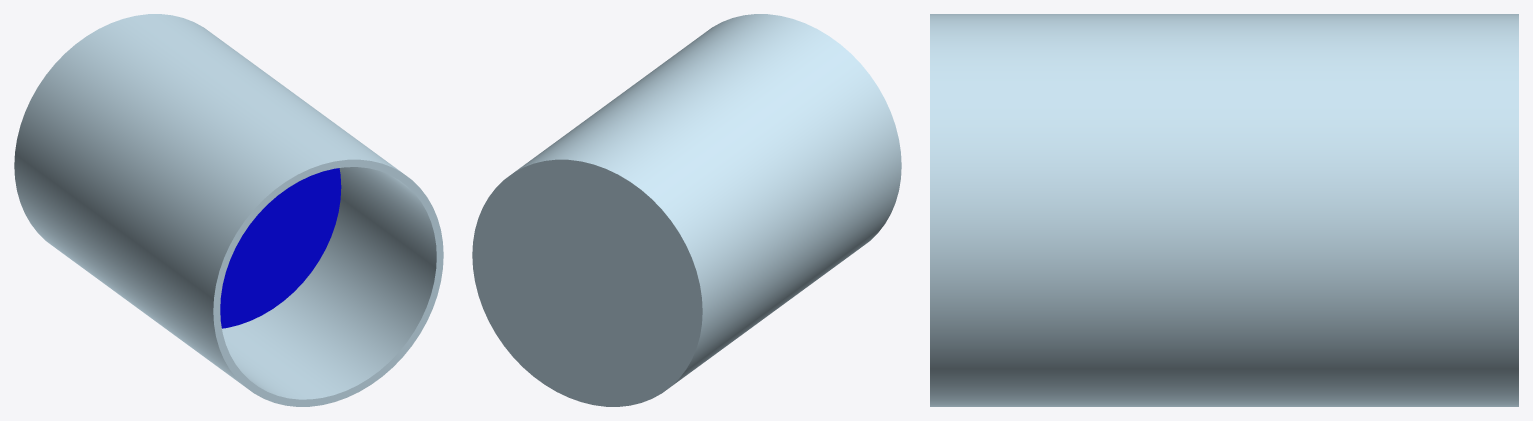
Rendered from diesel-tank.gltf.
The picture shows the model from 3 angles, left to right: view 1: azimuth 30°, elevation 25°; view 2: azimuth 150°, elevation 25°; view 3: azimuth 270°, elevation 25°; orthographic projection. The views are drawn at different scales.
Parts seen in each view (by area): view 1: Part 1, Part 2; view 2: Part 1; view 3: Part 1.
Part boxes in pixels (<box>): Part 1: <box>14,14,443,406</box>; Part 2: <box>220,168,341,328</box>; Part 1: <box>472,14,901,406</box>; Part 1: <box>930,14,1518,406</box>.
Size of the model in its own units: 0.1003 by 0.1001 by 0.15.
